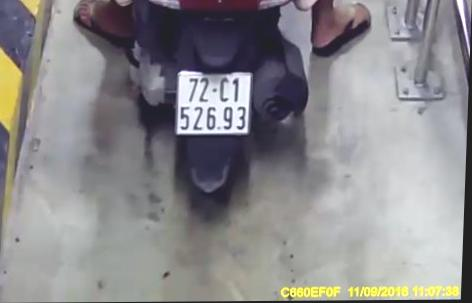License_Plate: (167, 66, 261, 141)
